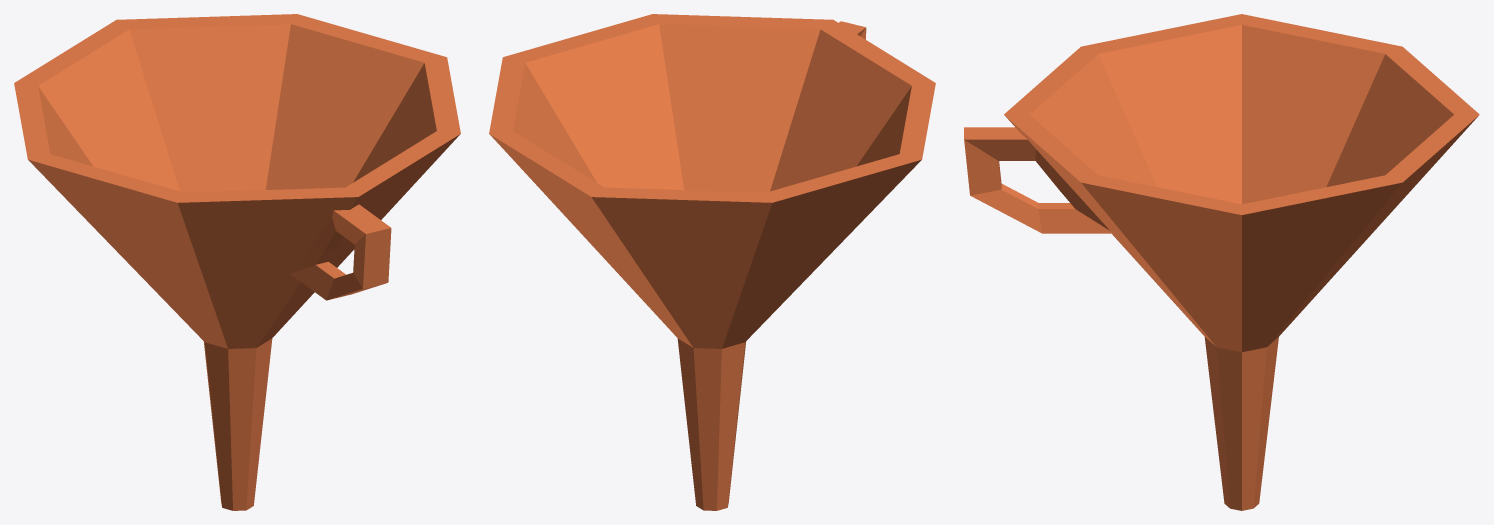
File: 34a5f93e-b20f-4c71-893b-17cafde1b023.glb
3 renders of one model, left to right at view 1: azimuth 30°, elevation 25°; view 2: azimuth 150°, elevation 25°; view 3: azimuth 270°, elevation 25°, orthographic.
Visible parts, largest first — view 1: Cube.004_Cube.021; view 2: Cube.004_Cube.021; view 3: Cube.004_Cube.021.
Boxes of the visible parts, x1,y1,x2,y2 form: Cube.004_Cube.021: [14, 14, 460, 510]; Cube.004_Cube.021: [489, 14, 935, 510]; Cube.004_Cube.021: [964, 14, 1479, 510].
Bounding box in the file's own units: 1.44 × 1.3 × 1.56.
Materials: 1 (1 with a texture image).
